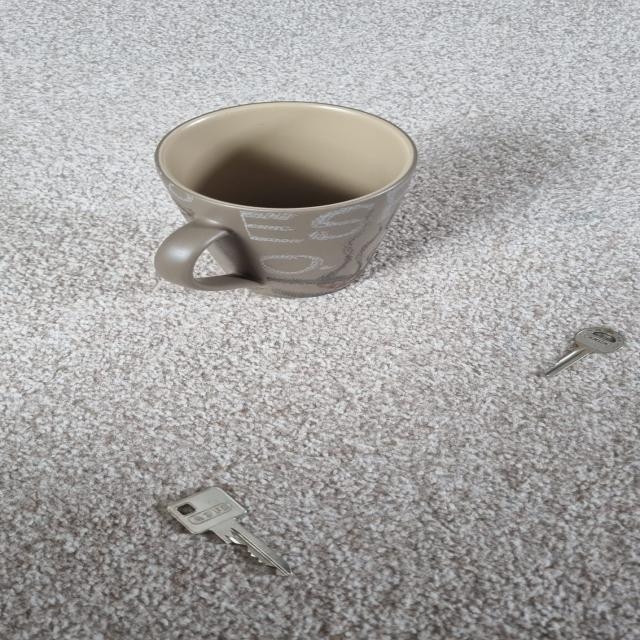Cup: (155, 102, 418, 298)
Key: (167, 487, 290, 575), (545, 328, 624, 377)
